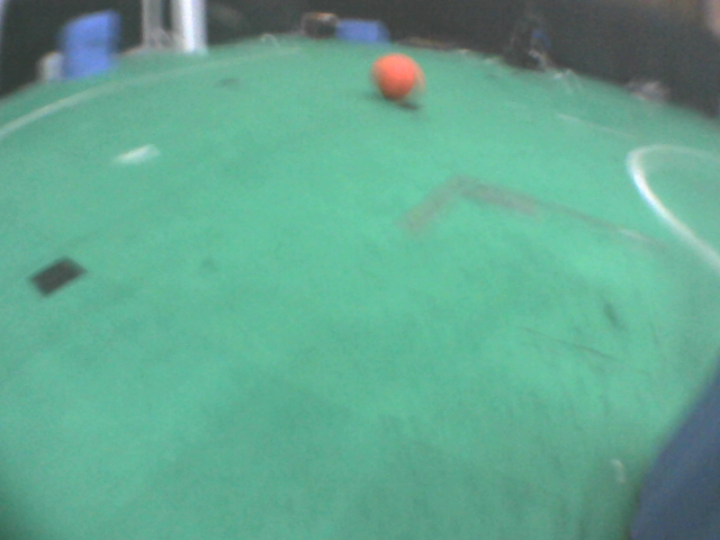bola: (366, 48, 427, 114)
